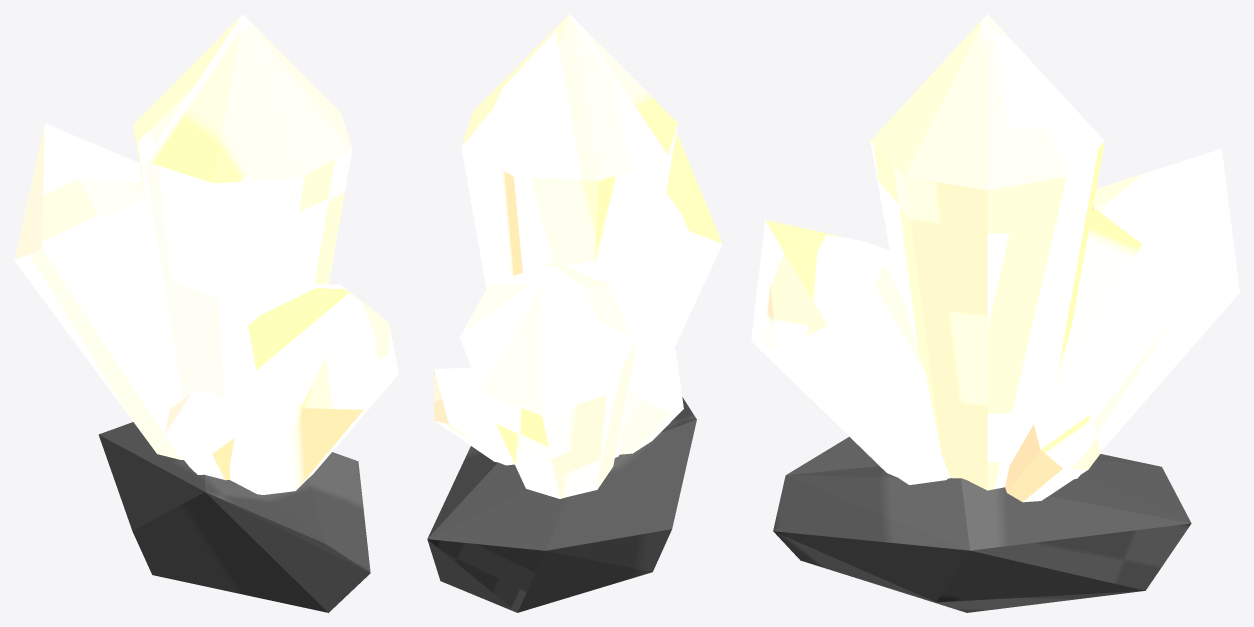
File: Crystal.gltf
3 views of the same model, side by side, from view 1: azimuth 30°, elevation 25°; view 2: azimuth 150°, elevation 25°; view 3: azimuth 270°, elevation 25° (orthographic). The views are drawn at different scales.
Visible parts, largest first — view 1: Crystal; view 2: Crystal; view 3: Crystal.
Boxes of the visible parts, bbox=[...] form: Crystal: bbox=[14, 14, 398, 612]; Crystal: bbox=[427, 14, 722, 612]; Crystal: bbox=[751, 14, 1239, 612].
Size of the model in its own units: 3.48 by 7.86 by 5.9.
1 material, 1 textured.
